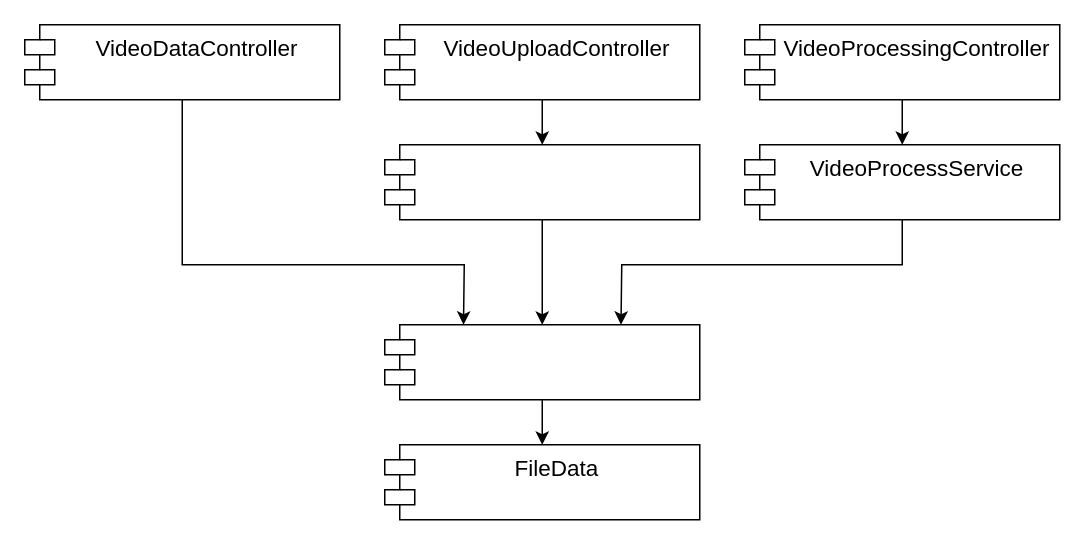
Image size: 1085x545. Some labels were removed from this diagram. The shapes that lost their labels are listed below. From the top down, each one's box as (x1, y1, x2, y2) in pixels, then its label:
(383, 143, 700, 220): FileUploadService
(383, 323, 700, 400): FileRepo
